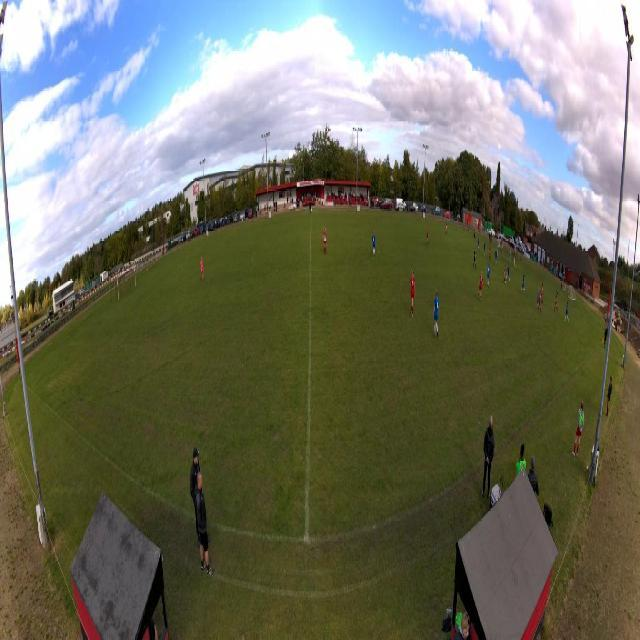ball: (505, 280, 507, 284)
player: (410, 269, 416, 320), (433, 289, 439, 340), (477, 269, 483, 303), (371, 230, 377, 257), (486, 262, 491, 291), (564, 301, 570, 323), (520, 273, 526, 295), (553, 290, 558, 314), (472, 247, 477, 271), (323, 226, 327, 255), (200, 255, 204, 282), (538, 288, 542, 314), (506, 264, 511, 284), (426, 226, 430, 247), (503, 264, 507, 284), (537, 287, 540, 311), (494, 248, 498, 266), (541, 283, 544, 304), (509, 249, 512, 267), (489, 244, 492, 262), (484, 241, 487, 258), (445, 221, 448, 237), (477, 236, 480, 252)
